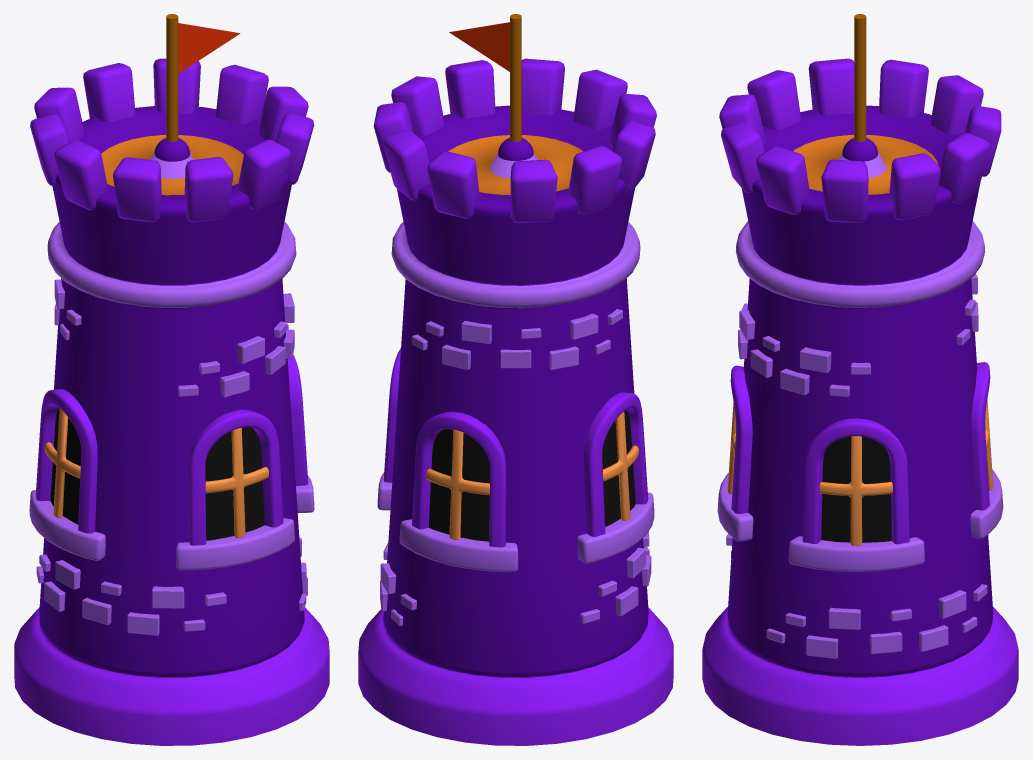
The model's file is tower 2.fbx.
3 views of the same model, side by side, from view 1: azimuth 30°, elevation 25°; view 2: azimuth 150°, elevation 25°; view 3: azimuth 270°, elevation 25° (orthographic).
Parts seen in each view (by area): view 1: Circle; view 2: Circle; view 3: Circle.
Boxes of the visible parts, x1,y1,x2,y2 form: Circle: [14, 14, 329, 745]; Circle: [358, 14, 673, 745]; Circle: [702, 14, 1018, 745].
Size of the model in its own units: 200 by 462 by 200.
Materials: 1 (1 with a texture image).
